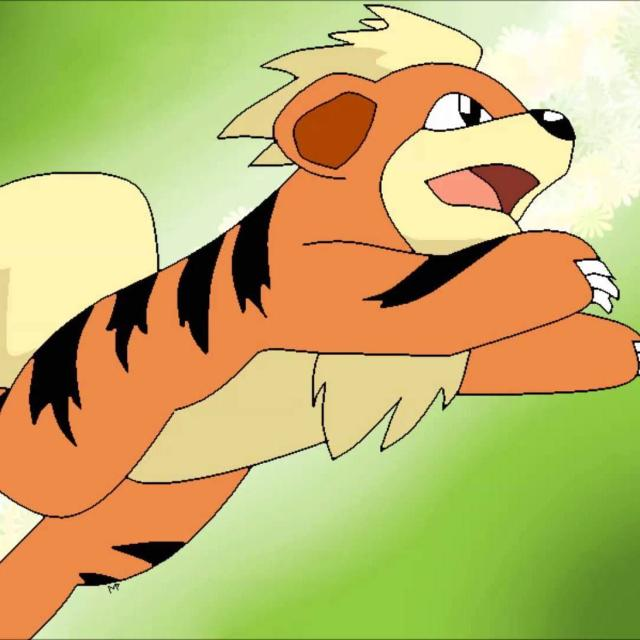Growlithe: (0, 8, 601, 464)
